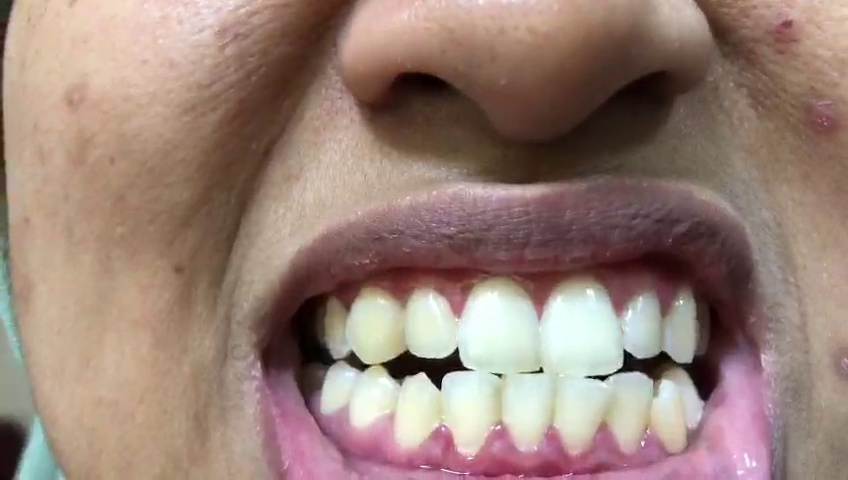1st Premolar: (348, 365, 398, 428), (662, 366, 706, 425), (326, 300, 350, 357)
2nd Premolar: (321, 359, 356, 415)
Canine: (346, 290, 405, 362), (393, 368, 440, 450), (650, 380, 689, 455), (663, 284, 699, 363)
Central Incisor: (541, 277, 625, 376), (457, 277, 541, 375), (553, 375, 607, 456), (502, 374, 552, 450)
Lateral Incisor: (443, 368, 503, 459), (404, 286, 456, 359), (607, 371, 651, 455), (621, 282, 662, 358)
